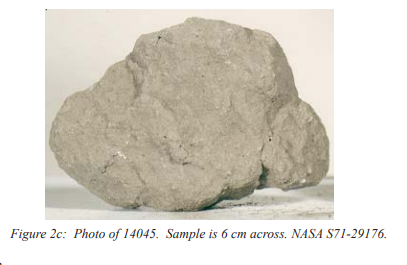Breccia: (48, 7, 329, 211)
